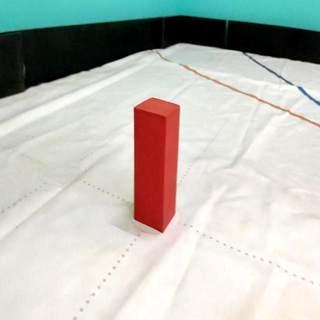redbox: (134, 95, 180, 232)
